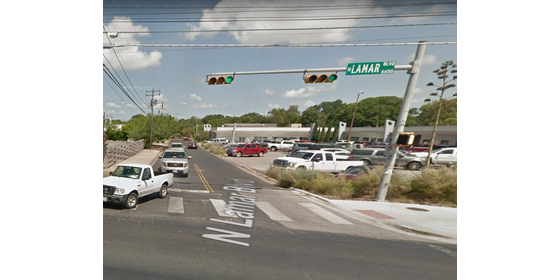street name sign: (346, 59, 397, 76)
